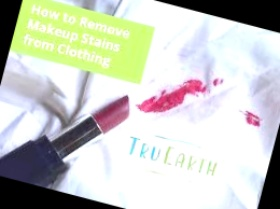lipstick: (165, 72, 211, 108), (144, 86, 186, 122), (135, 93, 173, 119), (232, 108, 264, 136), (208, 72, 228, 92)
